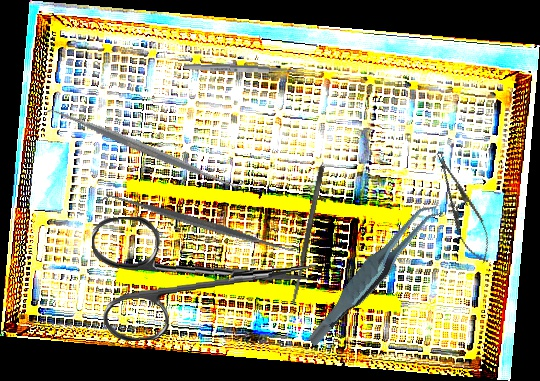Iris Scissors: (90, 207, 320, 343)
Needle Holder: (425, 147, 500, 268)
Spatula Surgical: (43, 96, 247, 201), (98, 182, 299, 264), (289, 164, 326, 307)
Surgical Spoon: (183, 62, 305, 76)
Tissue Forceps: (284, 199, 463, 348)
